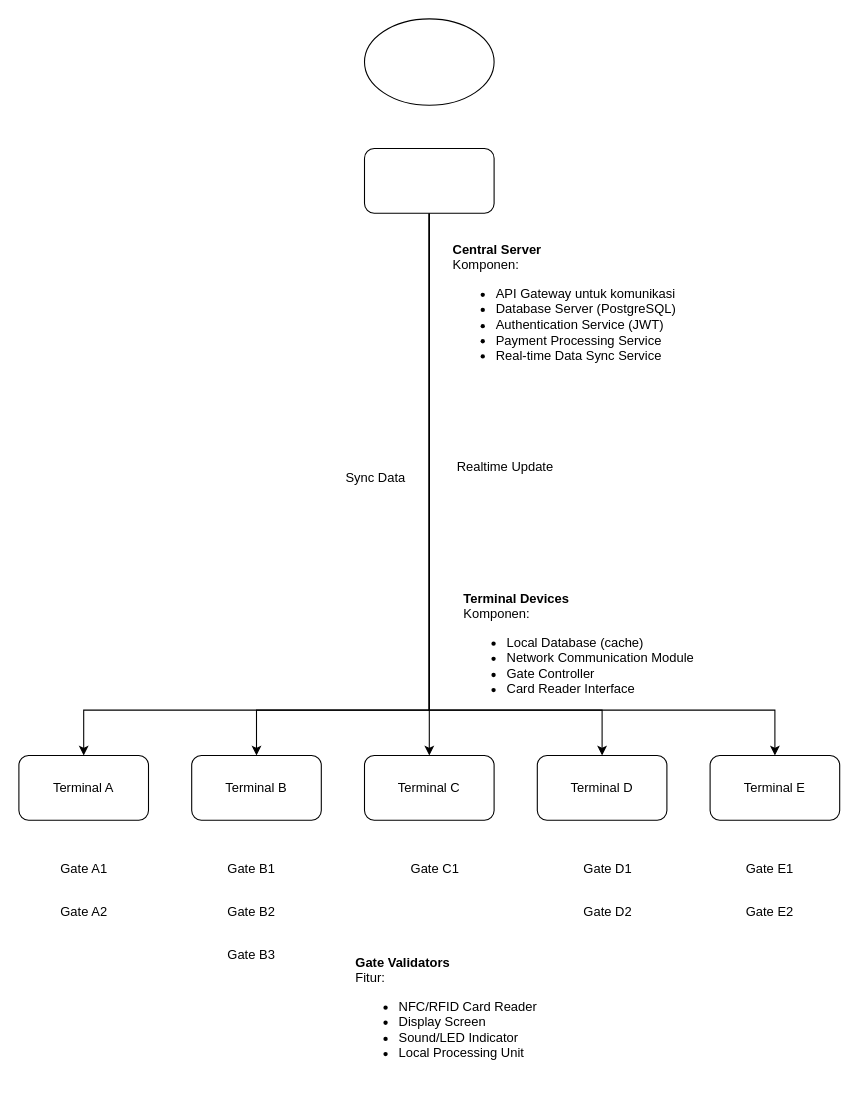
Some shapes in this 859 by 1093 pixel diagram are drawn without their labels. The box of each missing label's shape, as (x1, y1, x2, y2) in pixels:
Central Server: (363, 147, 494, 213)
Internet/ Cloud: (363, 18, 494, 105)
